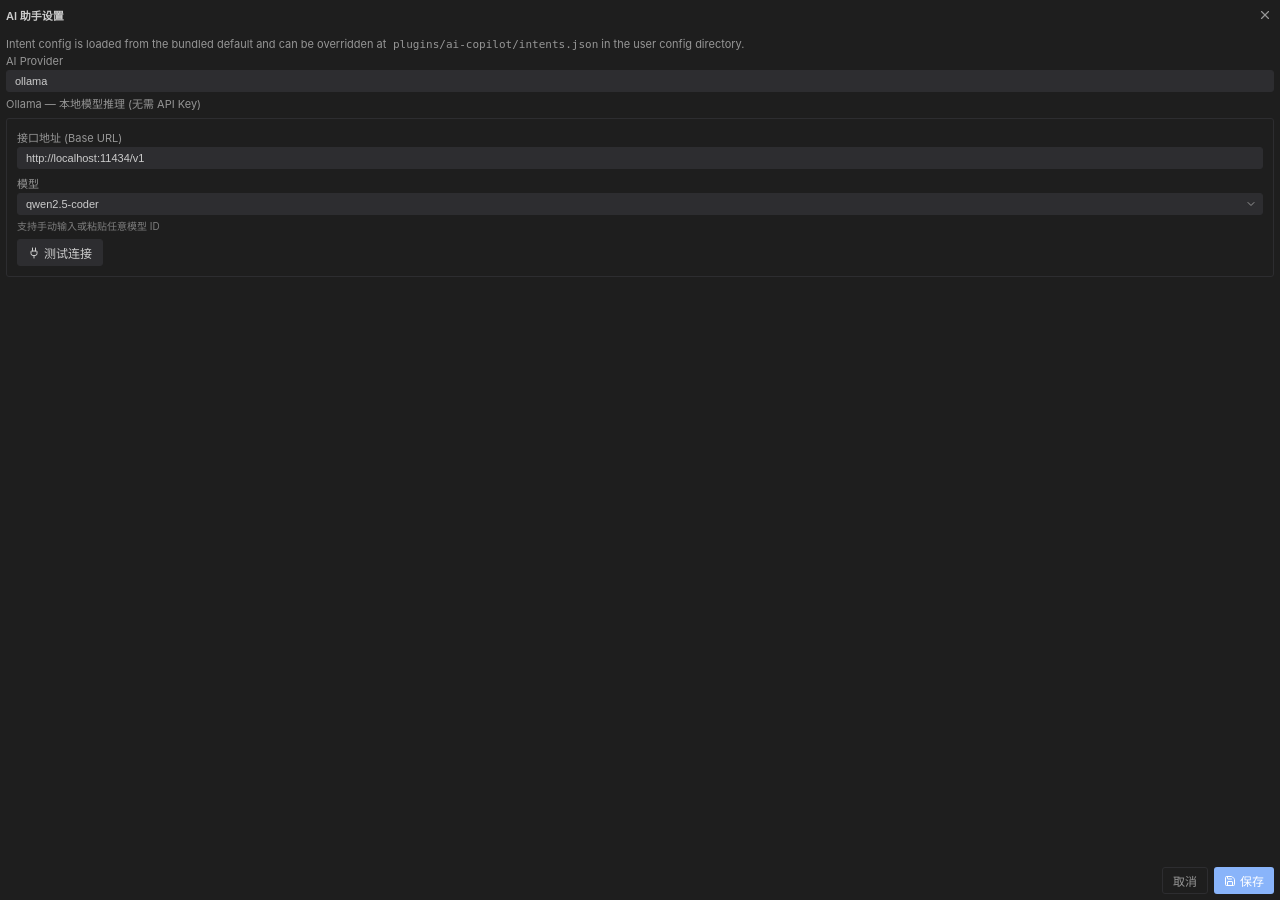
Scenario: SettingsView › shows connected status after successful test
Click the button with test id "test-connection-btn": (60, 252) [17, 239, 103, 266]
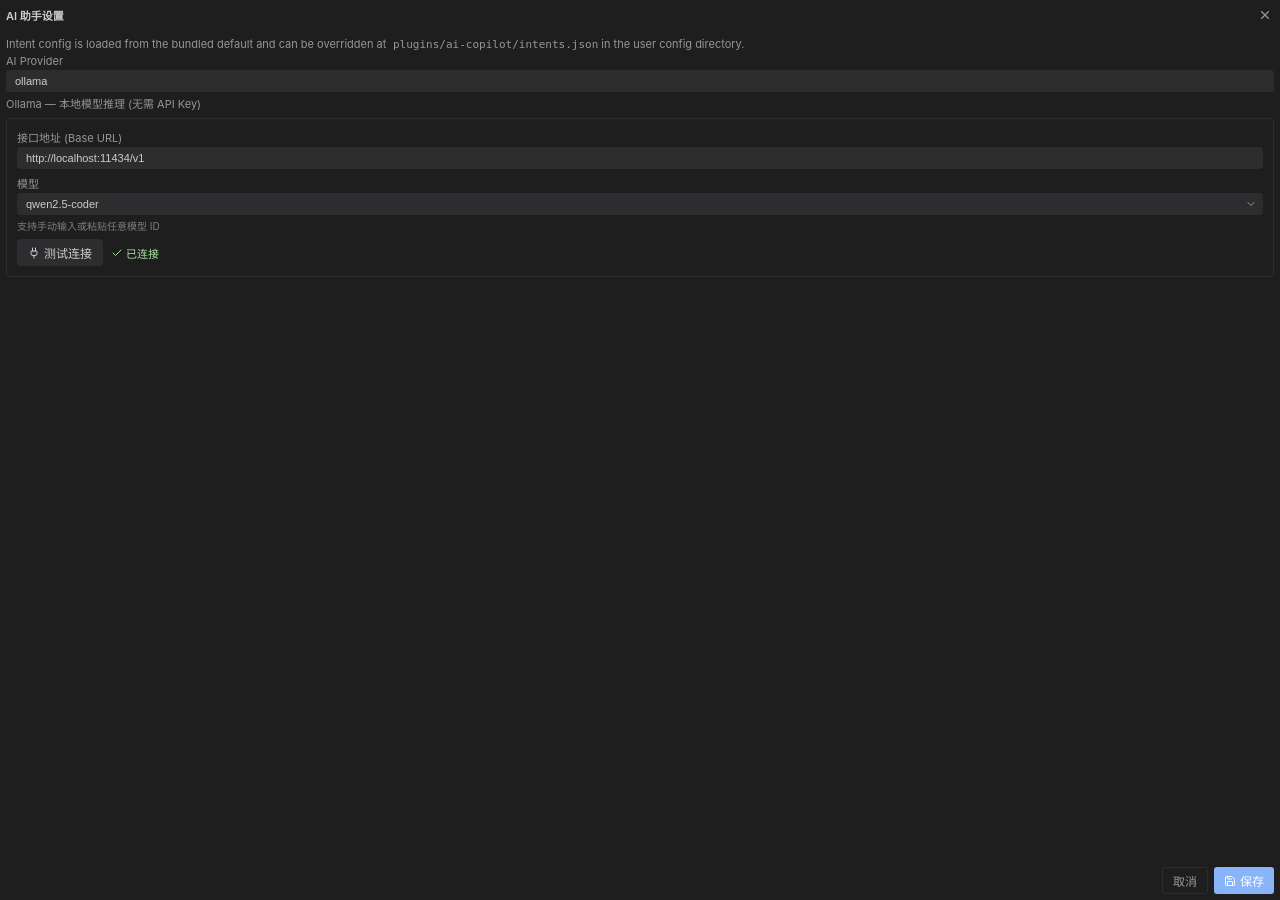
Check: the text "已连接" is shown, box [111, 244, 159, 260]
